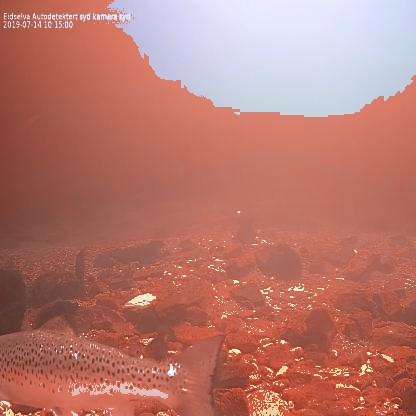salmon: (0, 311, 231, 416)
